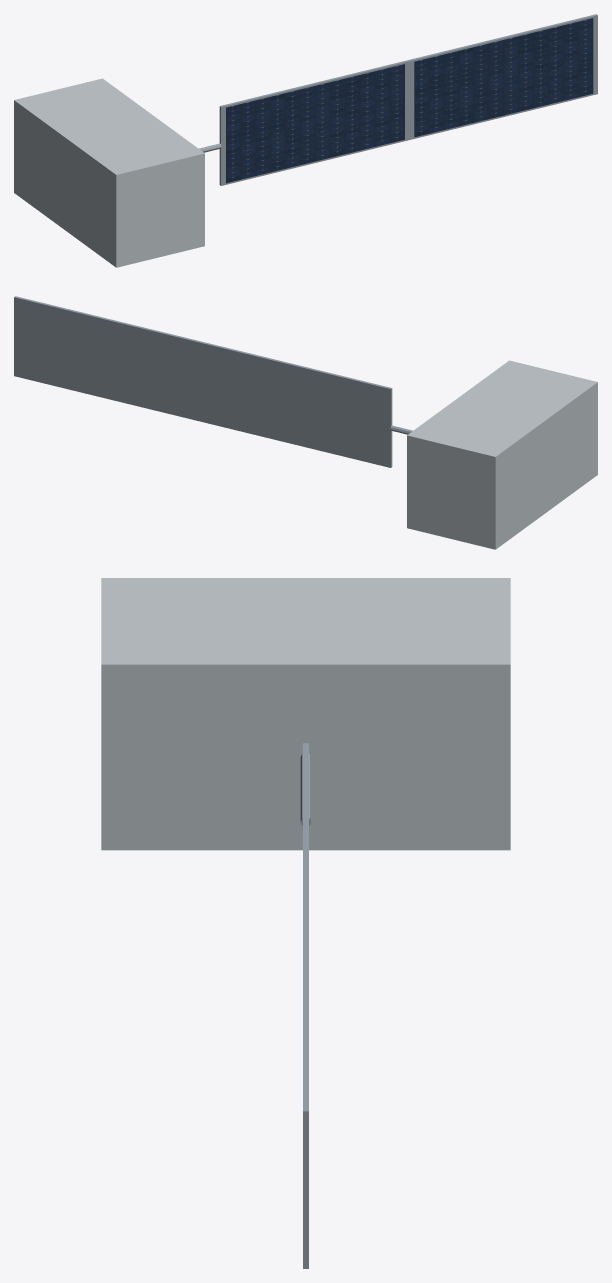
File: ref-kla-44785.glb
3 views of the same model, one above another, from view 1: azimuth 30°, elevation 25°; view 2: azimuth 150°, elevation 25°; view 3: azimuth 270°, elevation 25° (orthographic). The views are drawn at different scales.
Visible parts, largest first — view 1: Photovoltaic laminates (×2), Spacecraft body, Array frame (×2); view 2: Array frame (×2), Spacecraft body; view 3: Spacecraft body, Array frame (×2).
Part boxes in pixels (left/top/right/bottom): Photovoltaic laminates (×2): left=226, top=18, right=593, bottom=183; Spacecraft body: left=14, top=78, right=204, bottom=267; Array frame (×2): left=219, top=14, right=597, bottom=185; Array frame (×2): left=14, top=296, right=392, bottom=467; Spacecraft body: left=407, top=360, right=597, bottom=549; Spacecraft body: left=101, top=578, right=510, bottom=850; Array frame (×2): left=303, top=743, right=308, bottom=1268.
Bounding box in the file's own units: 3 × 0.5 × 1.
3 materials, 1 textured.
